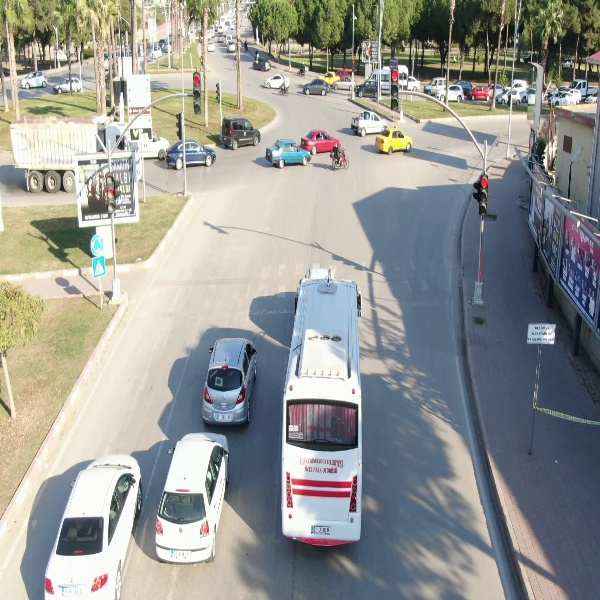car: (154, 430, 232, 564), (201, 337, 261, 430), (165, 135, 215, 172), (266, 137, 315, 170), (220, 115, 260, 150), (375, 125, 414, 157), (20, 68, 50, 91), (52, 75, 84, 94), (302, 78, 331, 97), (435, 84, 466, 101), (332, 74, 360, 91), (466, 84, 491, 103), (250, 58, 274, 72)
